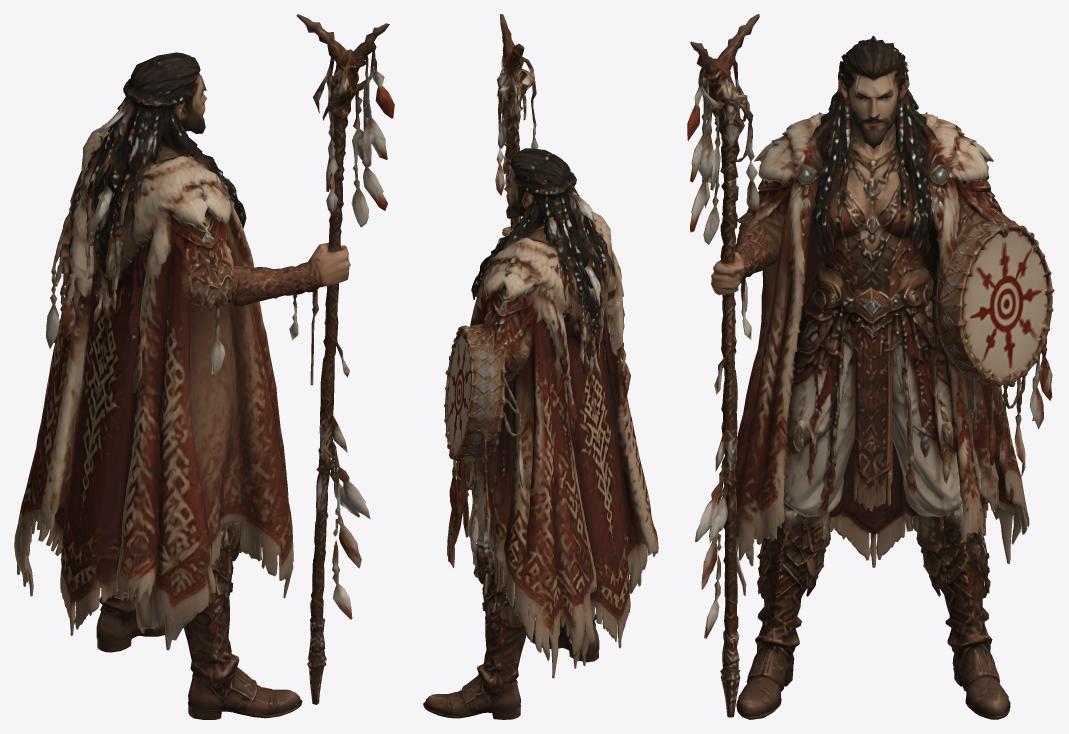
The model's file is drumcalleralt_T1-tripo.glb.
The picture shows the model from 3 angles, left to right: view 1: azimuth 30°, elevation 25°; view 2: azimuth 150°, elevation 25°; view 3: azimuth 270°, elevation 25°; orthographic projection. The views are drawn at different scales.
Parts seen in each view (by area): view 1: tripo_node_844a1b37-b726-446d-809e-201460cdade5; view 2: tripo_node_844a1b37-b726-446d-809e-201460cdade5; view 3: tripo_node_844a1b37-b726-446d-809e-201460cdade5.
Boxes of the visible parts, <box> form: tripo_node_844a1b37-b726-446d-809e-201460cdade5: <box>14,14,394,719</box>; tripo_node_844a1b37-b726-446d-809e-201460cdade5: <box>423,14,658,719</box>; tripo_node_844a1b37-b726-446d-809e-201460cdade5: <box>687,14,1054,719</box>.
Size of the model in its own units: 0.3669 by 1 by 0.4689.
1 material, 1 textured.
